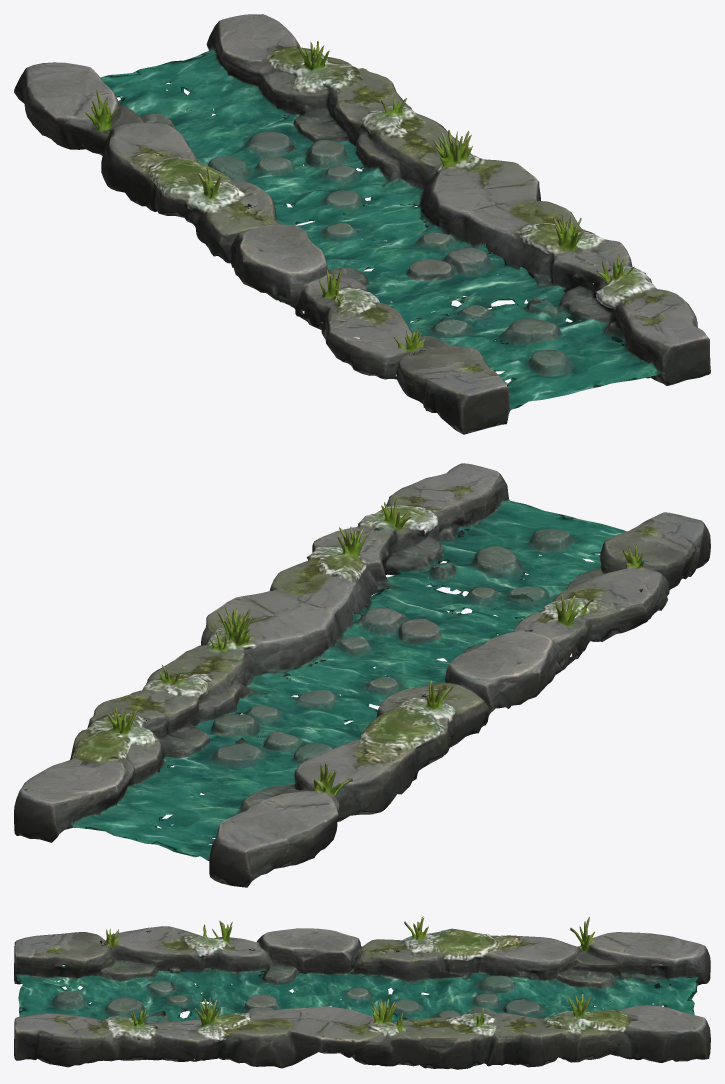
File: mountain-creek-segment.glb
3 renders of one model, top to bottom at view 1: azimuth 30°, elevation 25°; view 2: azimuth 150°, elevation 25°; view 3: azimuth 270°, elevation 25°, orthographic. The views are drawn at different scales.
Bounding box in the file's own units: 0.3981 × 0.0927 × 0.9955.
1 material, 1 textured.
